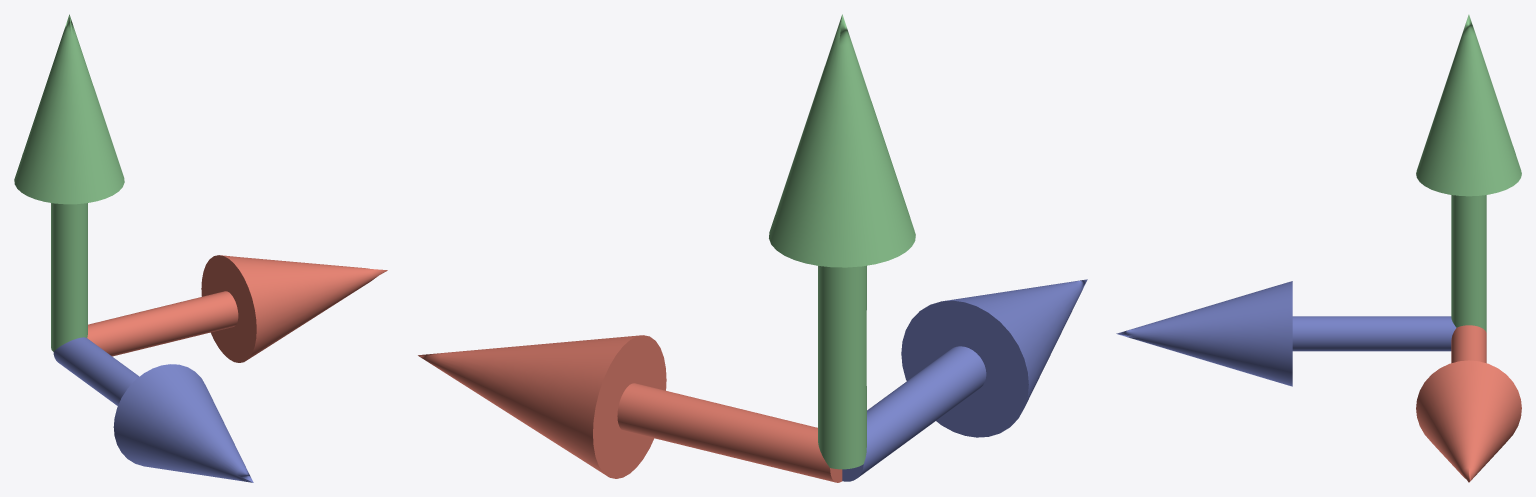
Rendered from axis.glb.
3 renders of one model, left to right at view 1: azimuth 30°, elevation 25°; view 2: azimuth 150°, elevation 25°; view 3: azimuth 270°, elevation 25°, orthographic. The views are drawn at different scales.
Parts seen in each view (by area): view 1: Body3, Body1, Body2; view 2: Body3, Body1, Body2; view 3: Body2, Body3, Body1.
Part boxes in pixels (x1,y1,x2,y2): Body3: (14,14,124,351); Body1: (87,255,387,362); Body2: (53,337,253,482); Body3: (769,14,915,469); Body1: (418,335,842,482); Body2: (842,279,1087,481); Body2: (1116,281,1456,386); Body3: (1416,14,1521,332); Body1: (1416,325,1521,482).
Size of the model in its own units: 0.115 by 0.115 by 0.115.
